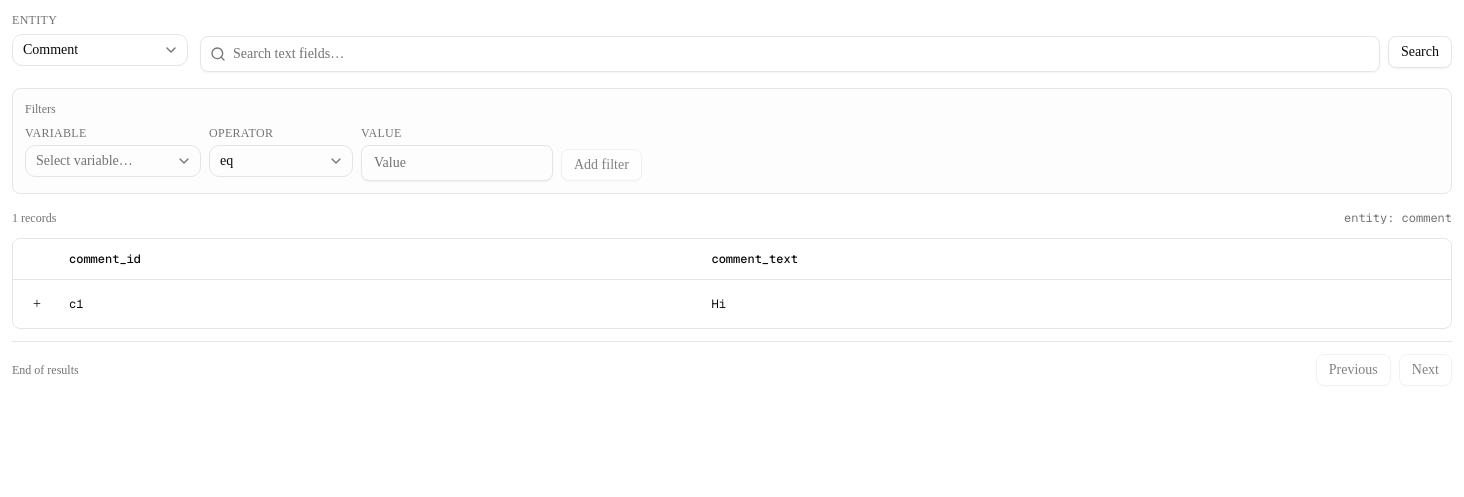
it: RecordExplorer › hides the View reply tree action when a comment has no video_id
Click the button named "Show details".
click(37, 304)  # box [21,288,53,320]
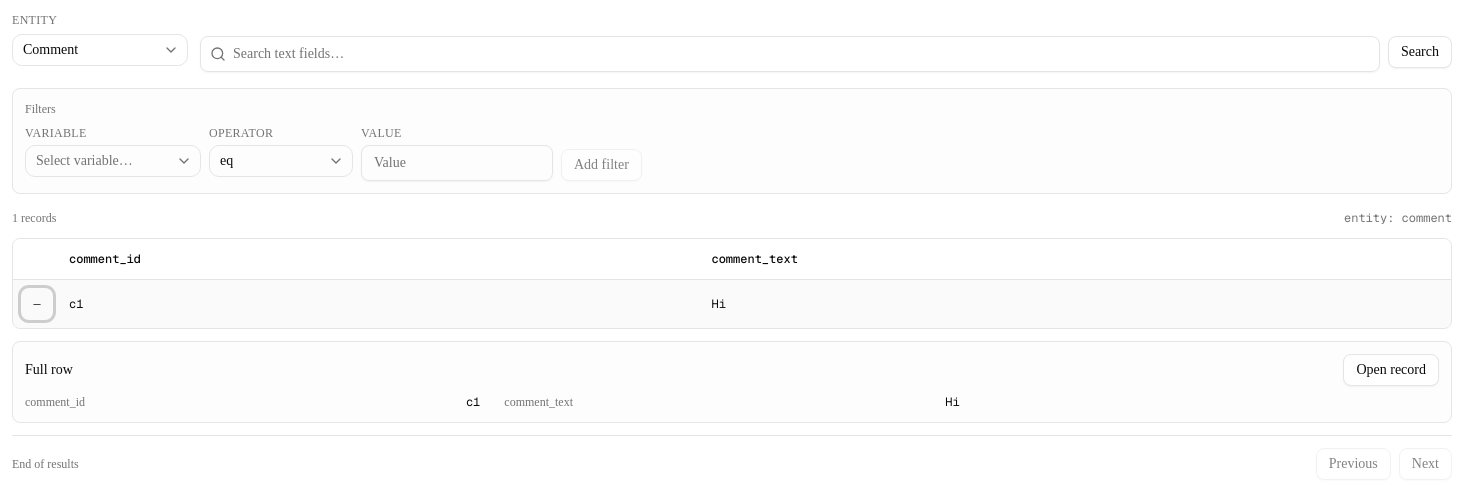
Now the button "Open record" is shown, box [1343,354,1439,386]
